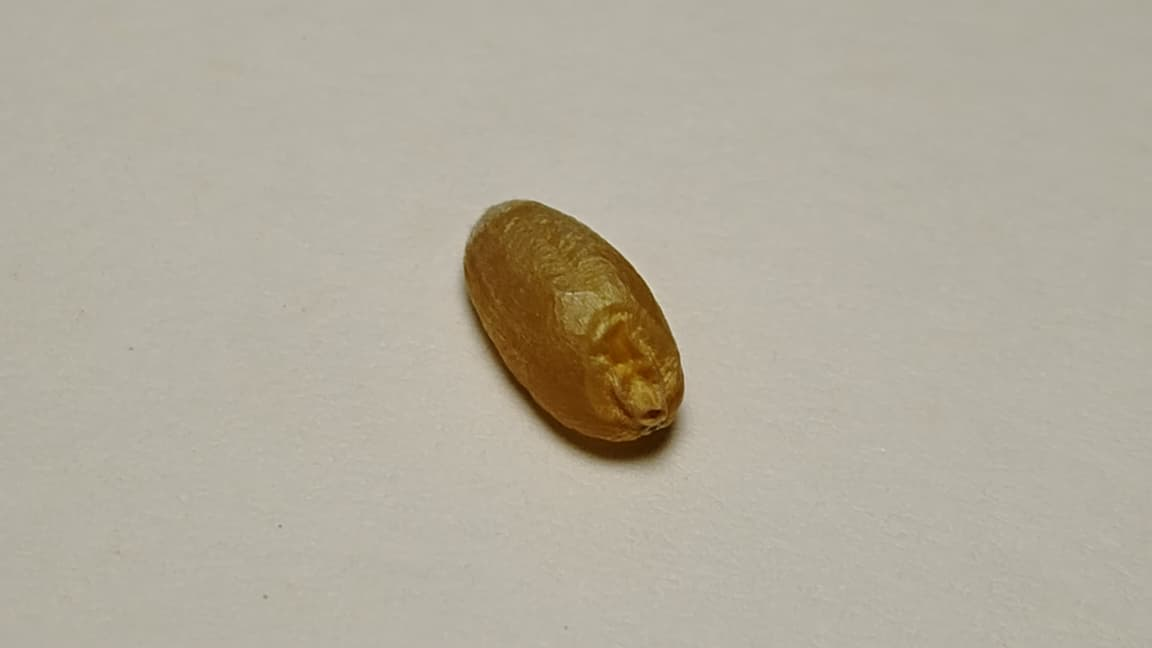healthy: (464, 200, 683, 442)
